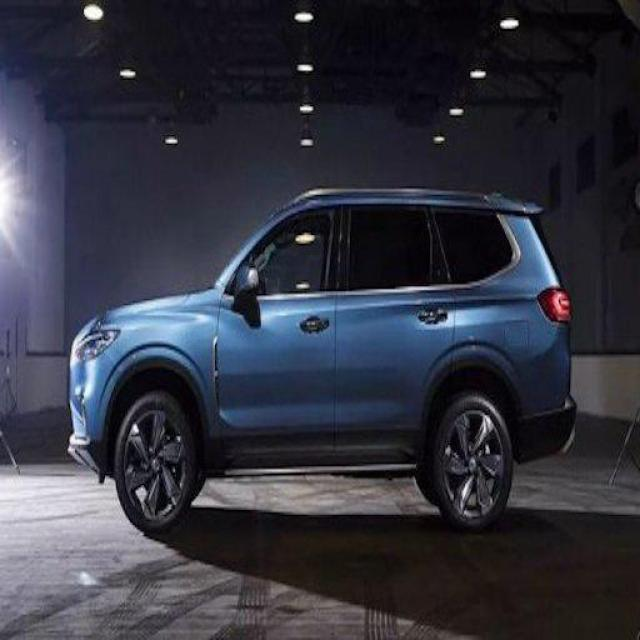back_left_door: (335, 204, 457, 454)
back_left_light: (535, 287, 569, 324)
front_left_door: (218, 204, 340, 457)
front_left_light: (71, 330, 121, 365)
left_mirror: (236, 262, 260, 310)
wheel: (115, 393, 514, 535)
